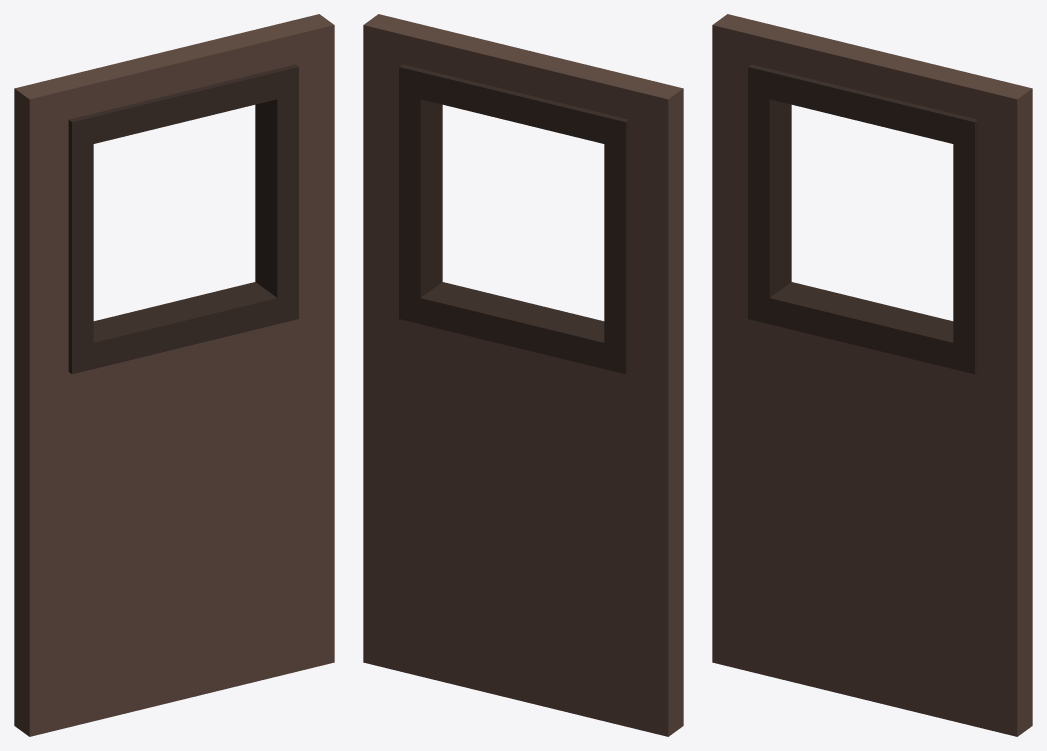
File: Door 2.fbx
3 views of the same model, side by side, from view 1: azimuth 30°, elevation 25°; view 2: azimuth 150°, elevation 25°; view 3: azimuth 330°, elevation 25° (orthographic).
Parts seen in each view (by area): view 1: Door 2; view 2: Door 2; view 3: Door 2.
Part boxes in pixels (x1,y1,x2,y2): Door 2: [14, 14, 334, 736]; Door 2: [363, 14, 683, 736]; Door 2: [712, 14, 1032, 736].
Size of the model in its own units: 101 by 202 by 12.74.
